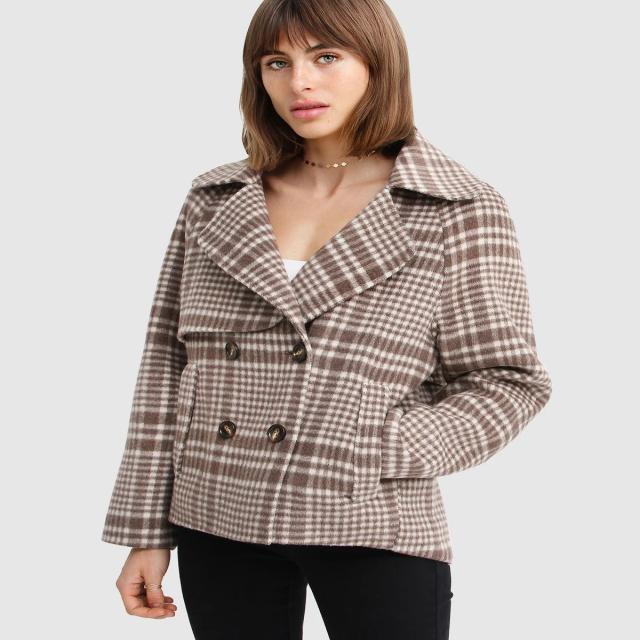jacket: (98, 127, 554, 571)
trousers: (170, 510, 456, 640)
